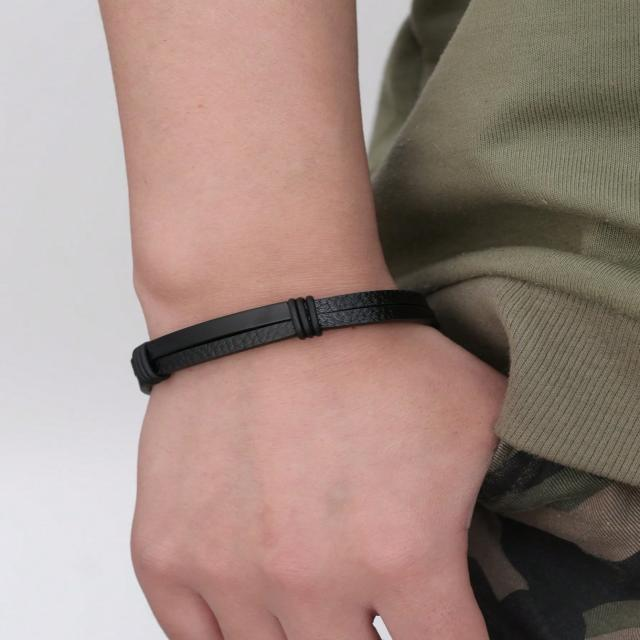bracelet: (54, 223, 530, 430)
